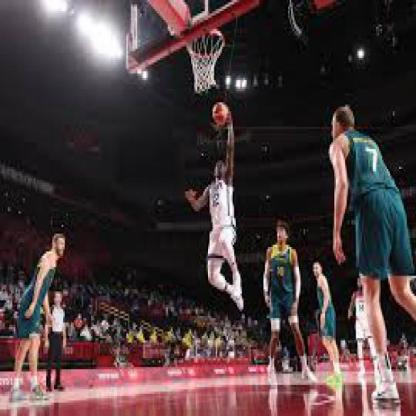basketball: (213, 102, 228, 124)
rim: (186, 29, 225, 60)
